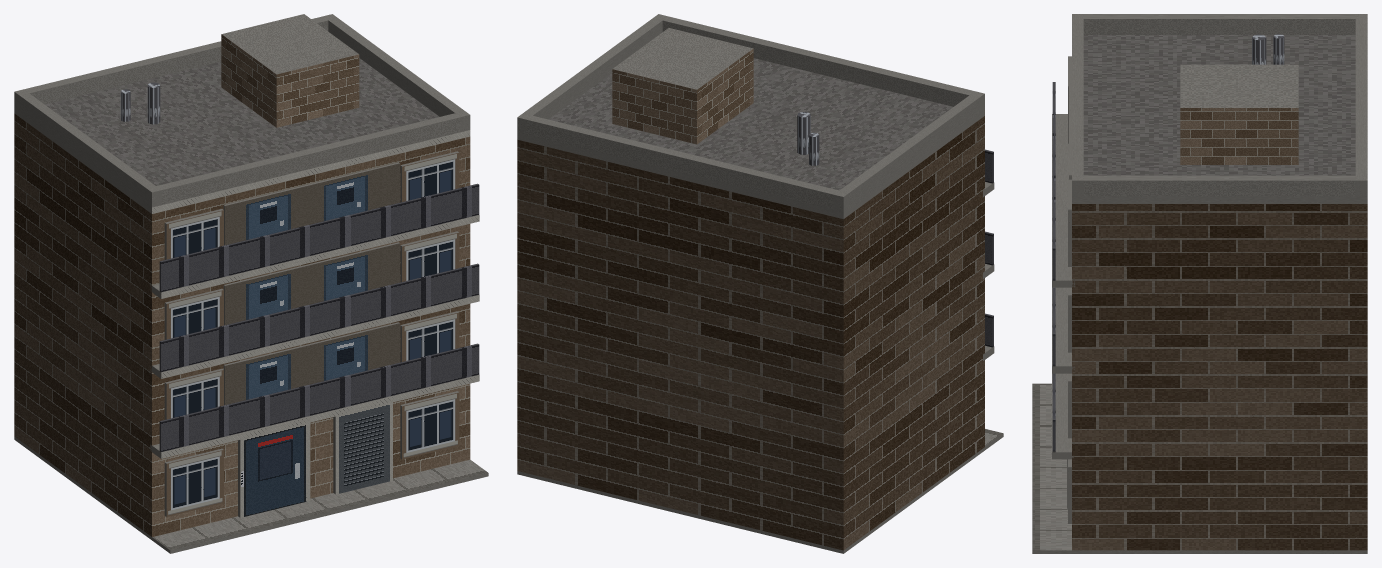
Rendered from building_london_flats_02.glb.
The picture shows the model from 3 angles, left to right: view 1: azimuth 30°, elevation 25°; view 2: azimuth 150°, elevation 25°; view 3: azimuth 270°, elevation 25°; orthographic projection. The views are drawn at different scales.
Visible parts, largest first — view 1: Building_London_Flats_02; view 2: Building_London_Flats_02; view 3: Building_London_Flats_02.
Boxes of the visible parts, bbox=[...] form: Building_London_Flats_02: bbox=[14, 14, 488, 553]; Building_London_Flats_02: bbox=[517, 14, 1003, 553]; Building_London_Flats_02: bbox=[1032, 14, 1367, 553].
Bounding box in the file's own units: 10 × 11.6 × 8.5.
1 material, 1 textured.
